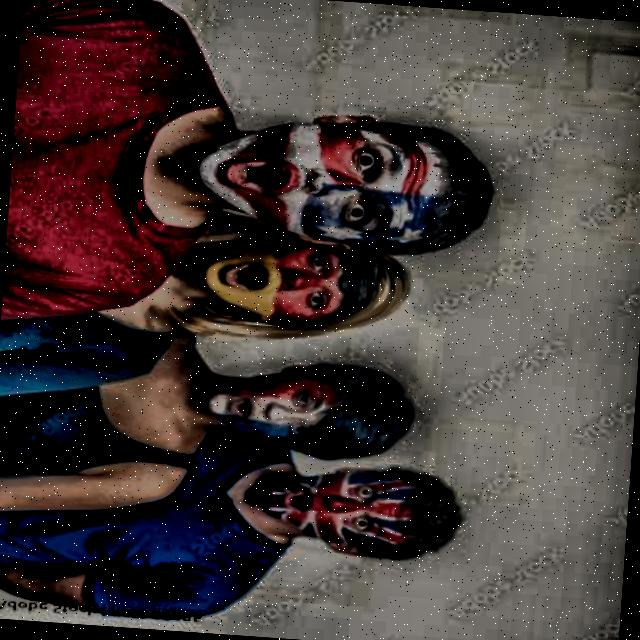surprised: (175, 92, 501, 264), (181, 346, 432, 475), (192, 230, 426, 355), (251, 447, 461, 573)
